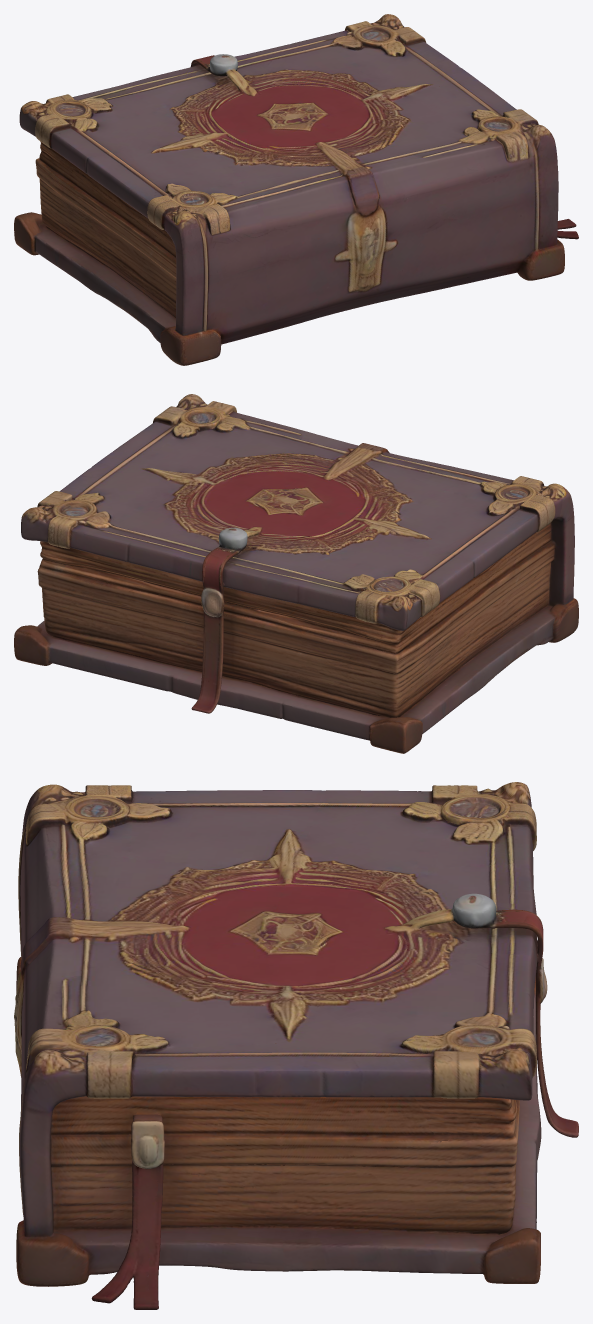
File: detailed_realistic_model_leatherbound_01.glb
3 views of the same model, one above another, from view 1: azimuth 30°, elevation 25°; view 2: azimuth 150°, elevation 25°; view 3: azimuth 270°, elevation 25° (orthographic). The views are drawn at different scales.
Visible parts, largest first — view 1: tripo_node_090740a8-fd8c-4eb0-bafb-4cd56ed8e07d; view 2: tripo_node_090740a8-fd8c-4eb0-bafb-4cd56ed8e07d; view 3: tripo_node_090740a8-fd8c-4eb0-bafb-4cd56ed8e07d.
Part boxes in pixels (<box>): tripo_node_090740a8-fd8c-4eb0-bafb-4cd56ed8e07d: <box>14,14,578,365</box>; tripo_node_090740a8-fd8c-4eb0-bafb-4cd56ed8e07d: <box>14,394,578,753</box>; tripo_node_090740a8-fd8c-4eb0-bafb-4cd56ed8e07d: <box>14,782,578,1309</box>.
Bounding box in the file's own units: 1 × 0.3493 × 0.7298.
1 material, 1 textured.
